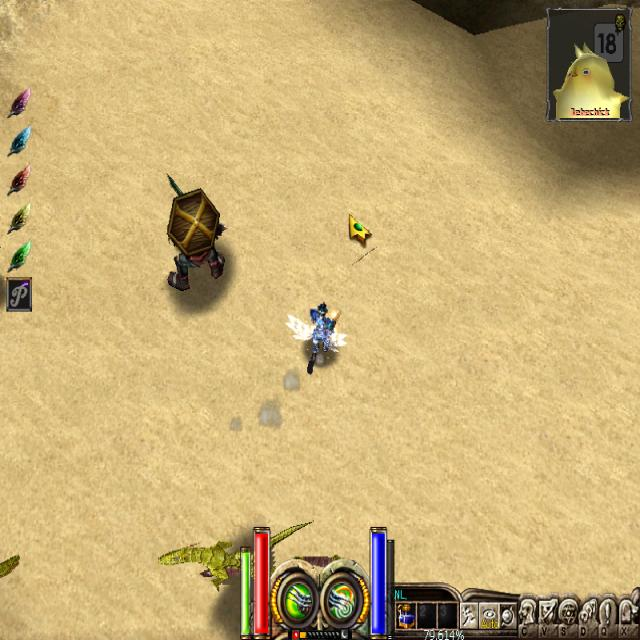monster: (153, 182, 235, 302)
